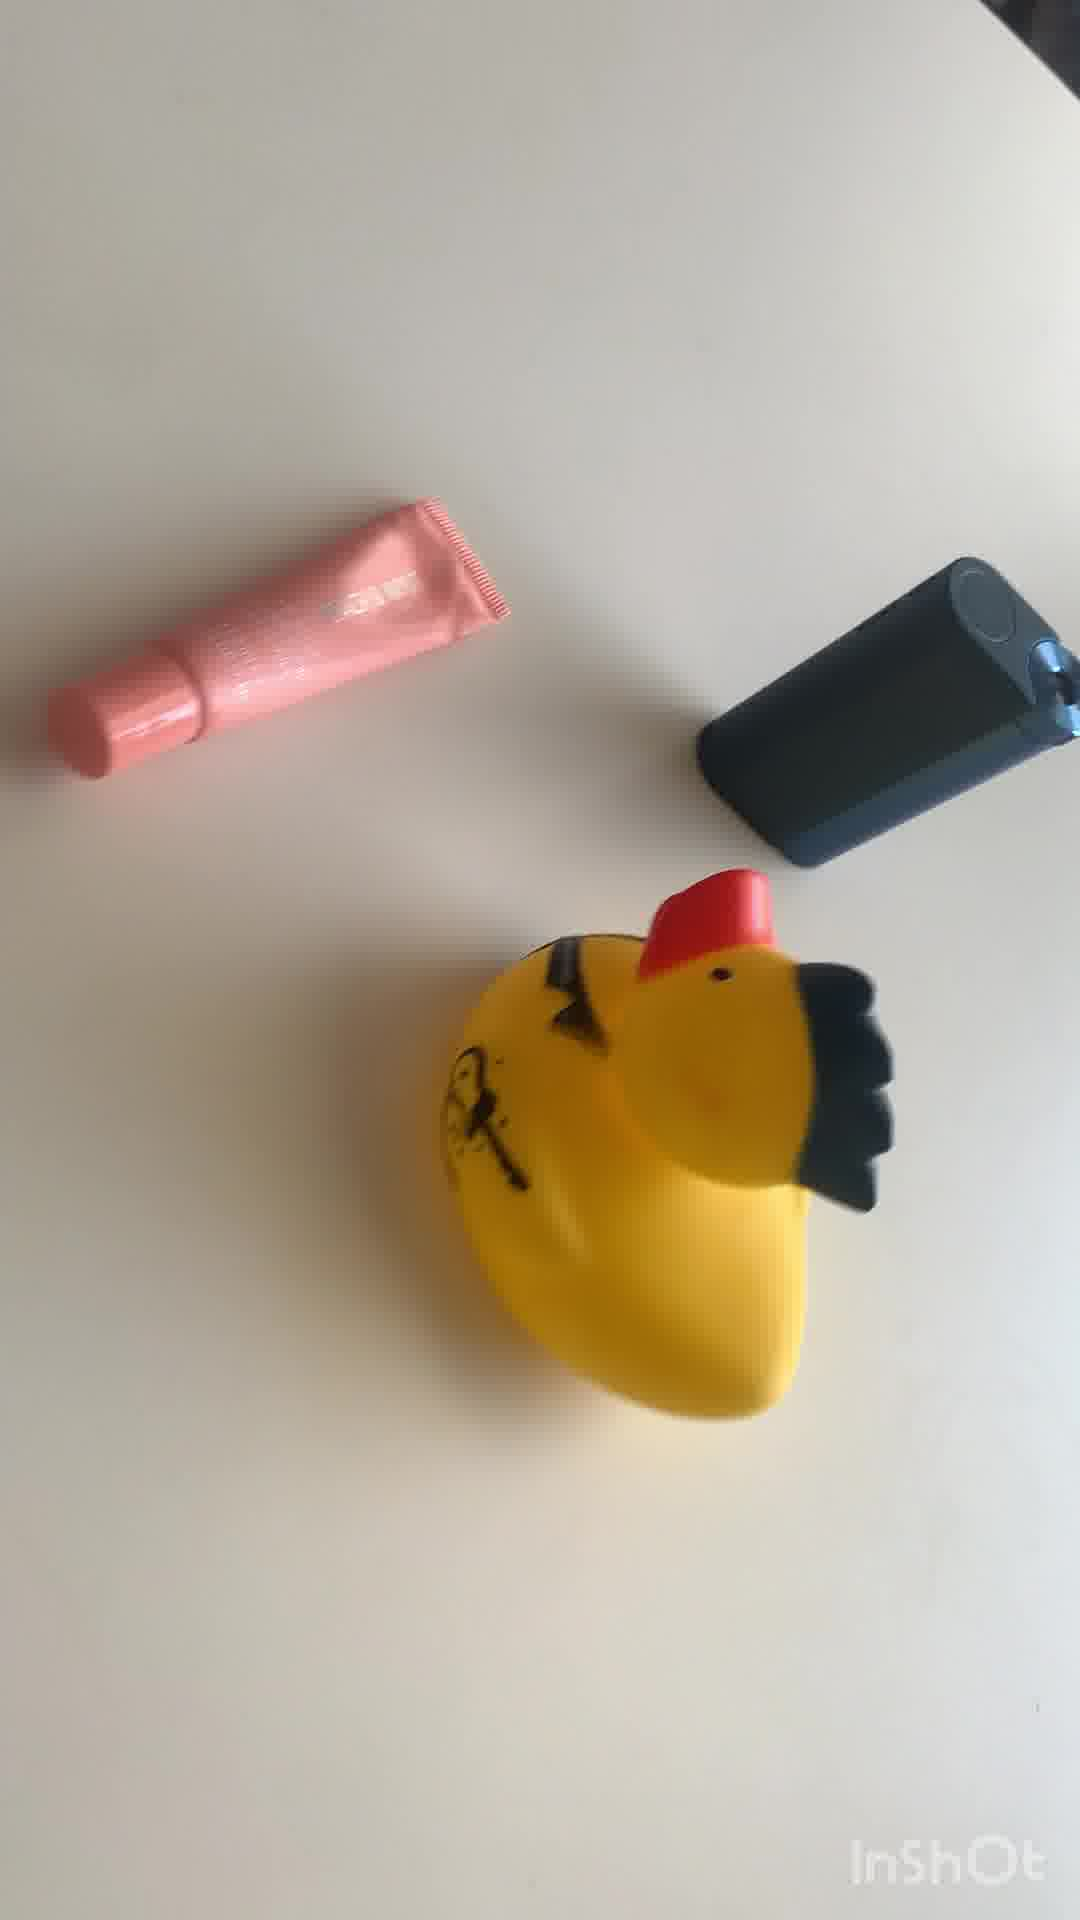duck: (431, 876, 895, 1418)
glo: (692, 564, 1080, 876)
lip balm: (54, 498, 518, 790)
